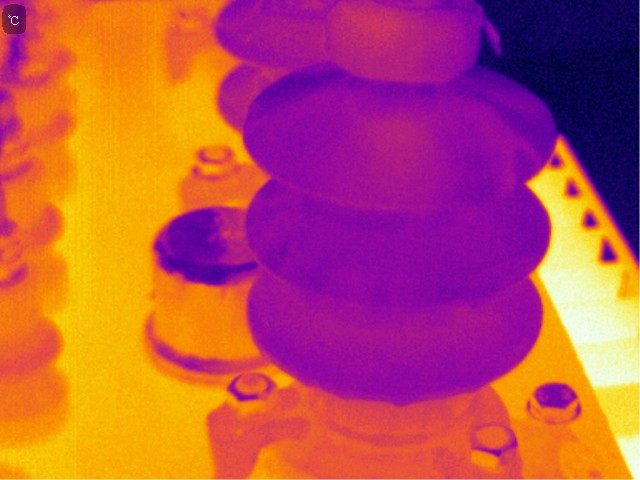Oil: (336, 2, 481, 80), (335, 106, 440, 206), (466, 107, 528, 195), (475, 1, 503, 60)
